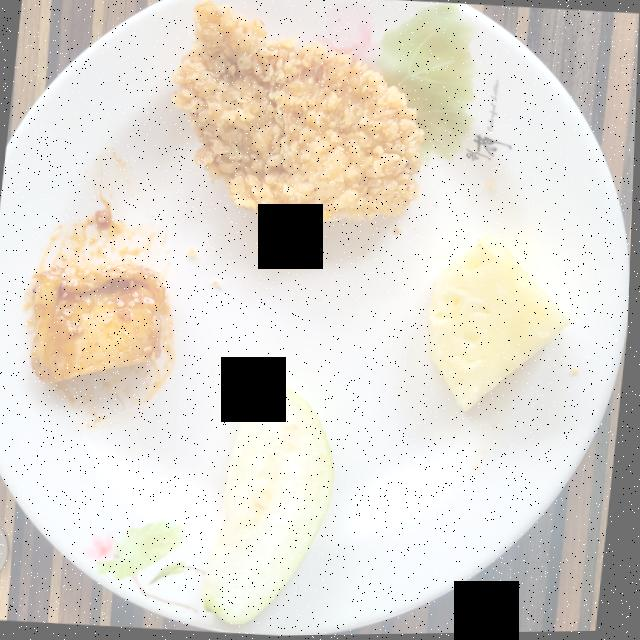coin: (0, 524, 12, 573)
creamy tofu: (33, 263, 168, 381)
fried chicken cutlet: (173, 0, 424, 231)
guava -sliced-: (208, 385, 337, 624)
pineapple: (430, 234, 572, 411)
